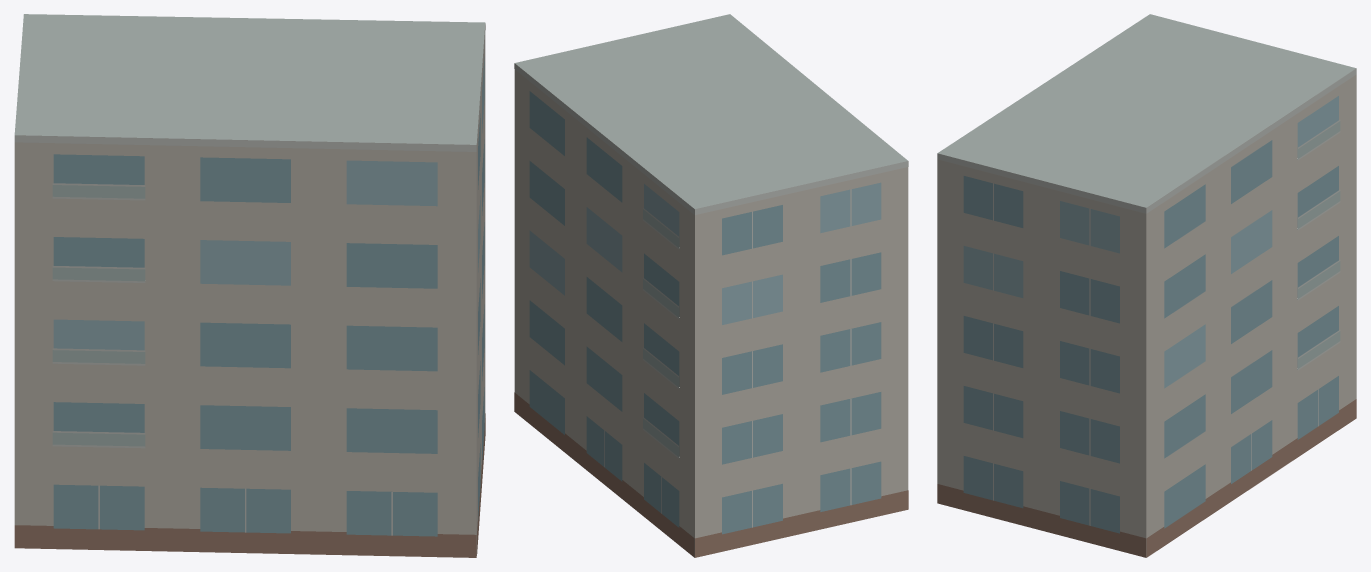
The model's file is survey-upis-32883273.glb.
The picture shows the model from 3 angles, left to right: view 1: azimuth 30°, elevation 25°; view 2: azimuth 150°, elevation 25°; view 3: azimuth 270°, elevation 25°; orthographic projection. The views are drawn at different scales.
Visible parts, largest first — view 1: survey-upis-32883273.tmp; view 2: survey-upis-32883273.tmp; view 3: survey-upis-32883273.tmp.
Boxes of the visible parts, bbox=[...] form: survey-upis-32883273.tmp: bbox=[14, 14, 485, 557]; survey-upis-32883273.tmp: bbox=[514, 14, 908, 557]; survey-upis-32883273.tmp: bbox=[937, 14, 1356, 557].
Size of the model in its own units: 16.87 by 14.2 by 15.43.
